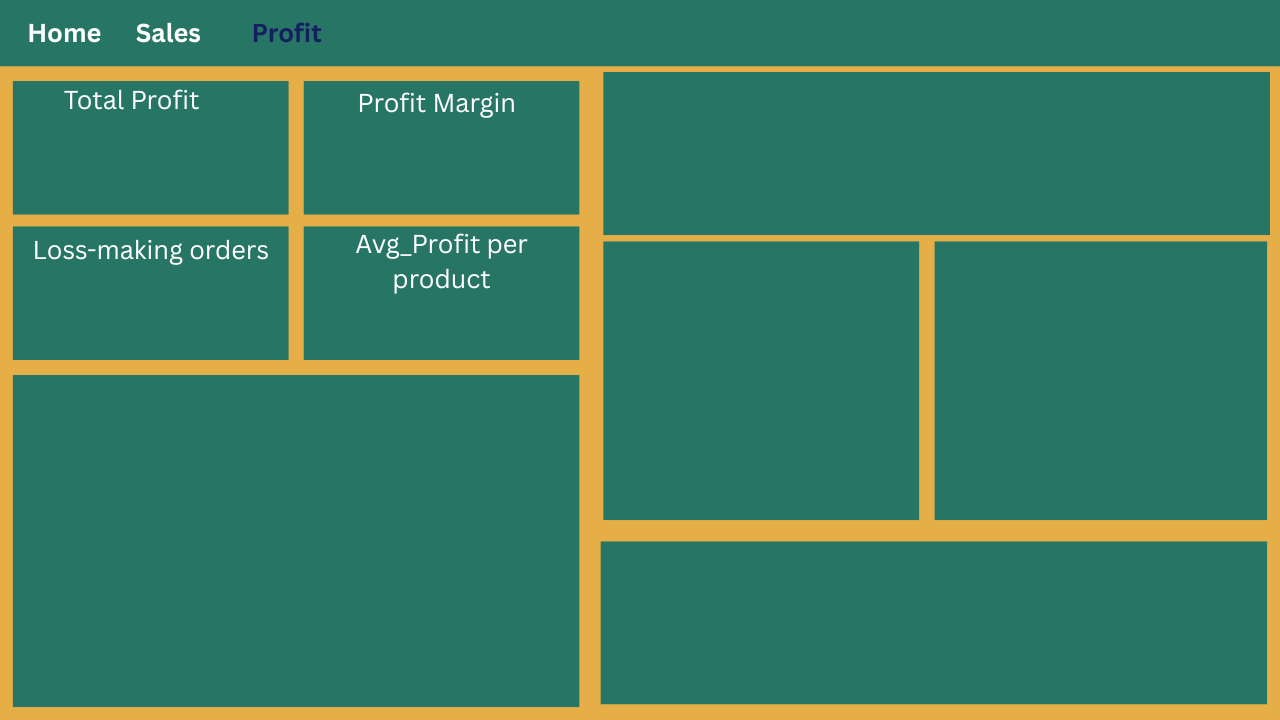

What the dashboard file says about the page in this screenshot:
{"tool":"powerbi","page":{"name":"Profit","canvas":[1280,720],"ordinal":2},"visuals":[{"type":"card","fields":{"Values":["Sum(Sample.Profit)"]},"box":[36.2,122.5,208.8,78.8],"z":0},{"type":"card","fields":{"Values":["Sample.Profit Margin (%)"]},"box":[325,122.5,208.8,78.8],"z":1},{"type":"card","fields":{"Values":["Sample.Loss-making Orders"]},"box":[46.2,268.8,208.8,78.8],"z":2},{"type":"card","fields":{"Values":["Sample.Average Profit by Product"]},"box":[340,268.8,208.8,78.8],"z":3},{"type":"lineChart","title":"Profits over Month","fields":{"Category":["year table.Month"],"Y":["Sum(Sample.Profit)"]},"box":[612.8,75.6,648.8,150],"z":4},{"type":"slicer","fields":{"Values":["year table.Year"]},"box":[353.8,6.2,487.5,50],"z":5},{"type":"slicer","fields":{"Values":["Sample.Region"]},"box":[856.2,6.2,202.5,66.2],"z":6},{"type":"slicer","fields":{"Values":["Sample.Category"]},"box":[1076.2,6.2,185,37.5],"z":7},{"type":"esriVisual","fields":{"Location":["Sample.State"],"Size":["Sum(Sample.Profit)"]},"box":[20,382.5,543.8,313.8],"z":8},{"type":"donutChart","fields":{"Category":["Sample.Category"],"Y":["Sum(Sample.Profit)"]},"box":[597.5,243.8,325,271.2],"z":9},{"type":"columnChart","fields":{"Y":["Sum(Sample.Discount)"],"Category":["Sample.Discount Bins"]},"box":[937.5,243.8,323.8,271.2],"z":10},{"type":"barChart","fields":{"Y":["Sample.Loss-making Orders"],"Category":["Sample.Region"]},"box":[612.5,550,648.8,146.2],"z":11},{"type":"actionButton","box":[20,11.2,100,40],"z":12},{"type":"actionButton","box":[120,6.2,100,50],"z":13}]}

Visuals, with their boxes on the page's 1280x720 design canvas (x1, y1, x2, y2). These are canvas units, not pixel positions in the 1280x720 screenshot, which may show the page scaled, cropped or inside an application window:
card - Sum(Sample.Profit): Rect(36, 122, 245, 201)
card - Sample.Profit Margin (%): Rect(325, 122, 534, 201)
card - Sample.Loss-making Orders: Rect(46, 269, 255, 348)
card - Sample.Average Profit by Product: Rect(340, 269, 549, 348)
"Profits over Month" lineChart: Rect(613, 76, 1262, 226)
slicer - year table.Year: Rect(354, 6, 841, 56)
slicer - Sample.Region: Rect(856, 6, 1059, 72)
slicer - Sample.Category: Rect(1076, 6, 1261, 44)
esriVisual - Sample.State x Sum(Sample.Profit): Rect(20, 382, 564, 696)
donutChart - Sample.Category x Sum(Sample.Profit): Rect(598, 244, 922, 515)
columnChart - Sum(Sample.Discount) x Sample.Discount Bins: Rect(938, 244, 1261, 515)
barChart - Sample.Loss-making Orders x Sample.Region: Rect(612, 550, 1261, 696)
actionButton: Rect(20, 11, 120, 51)
actionButton: Rect(120, 6, 220, 56)
